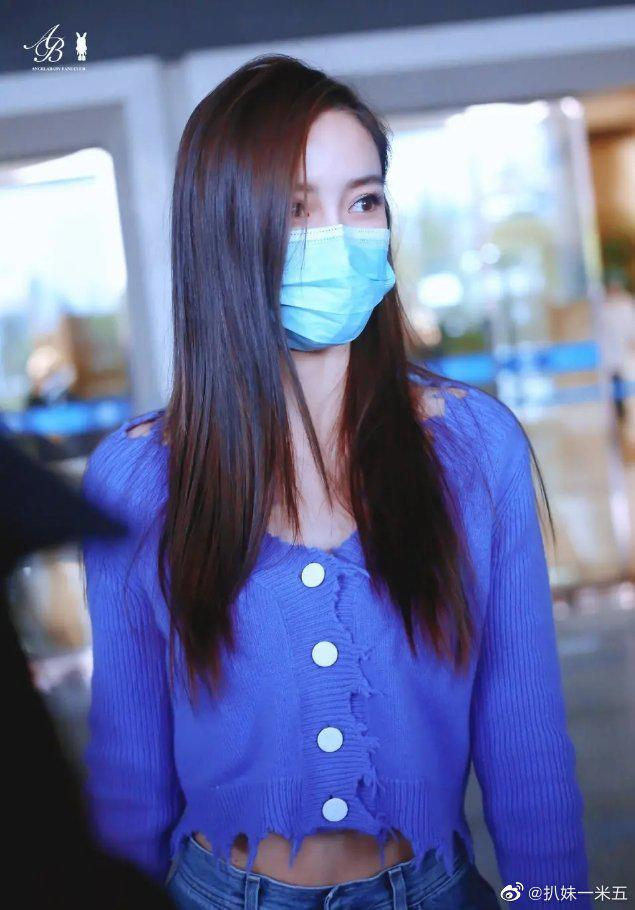OK: (279, 160, 397, 350)
